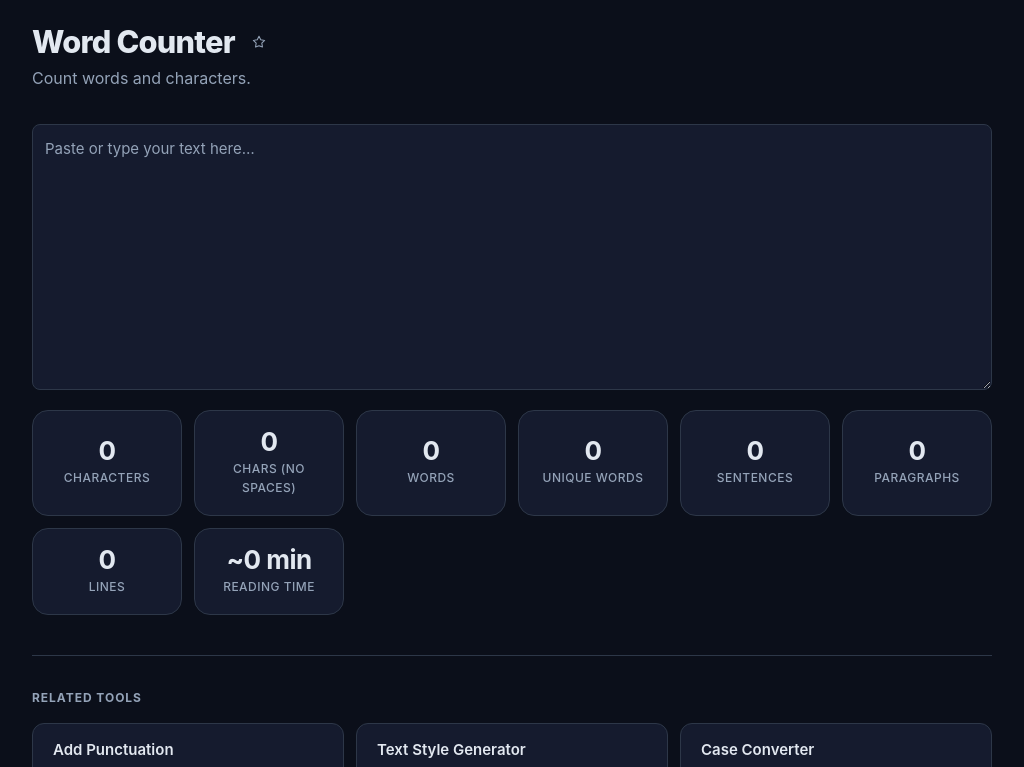
it: WordCounter › shows correct word count
Type "hello world foo" into the text box named "text to count". click: (512, 257)
box: [32,124,992,390]
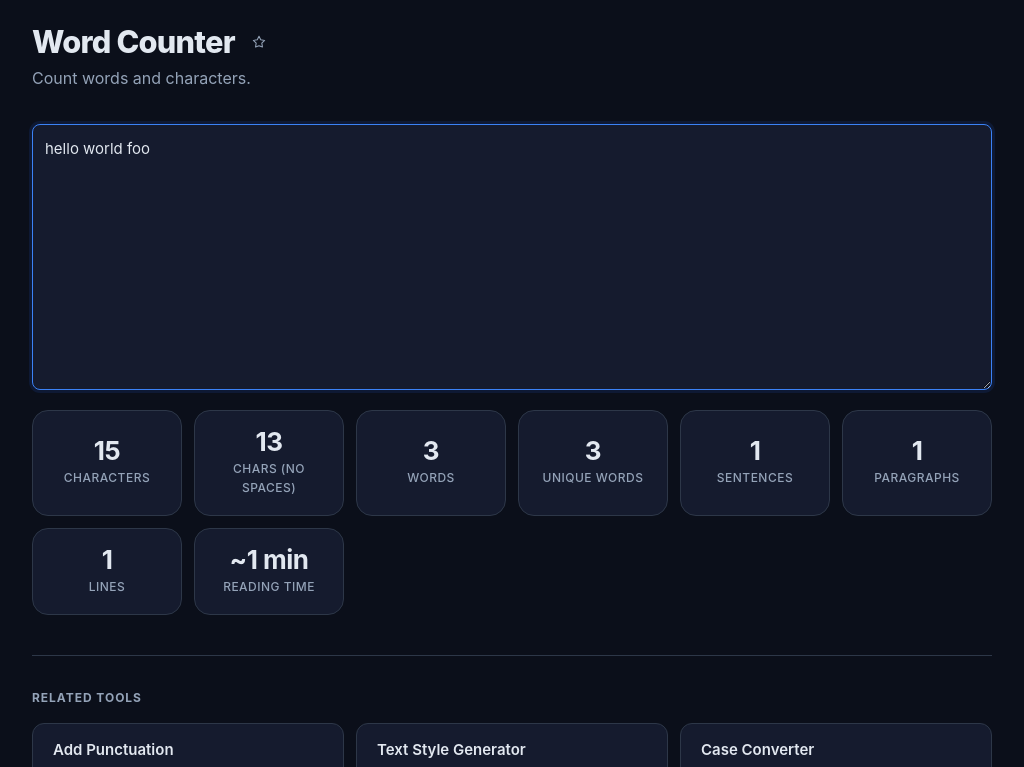
Check: the 1st text "3" is shown, box [423,438,439,464]
